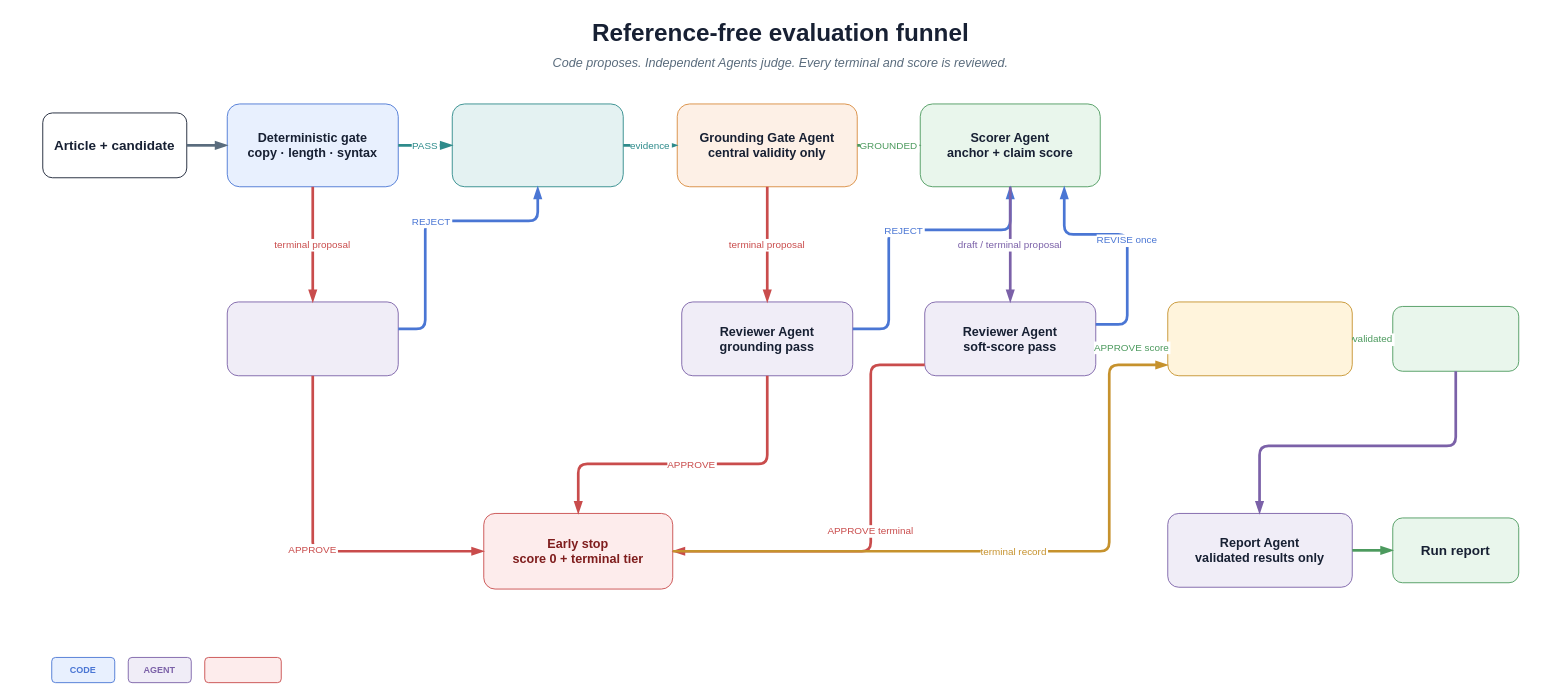
Image size: 1561x698. Some labels were removed from this diagram. The centre of each missing label's shape, as x and y in pixels:
"Required embedding assigned article only" belongs at point (537, 145).
"Reviewer Agent physical pass" belongs at point (312, 338).
"Score JSONL" belongs at point (1455, 338).
"TERMINAL" belongs at point (242, 670).
"Validate + assemble rank within article" belongs at point (1259, 338).
